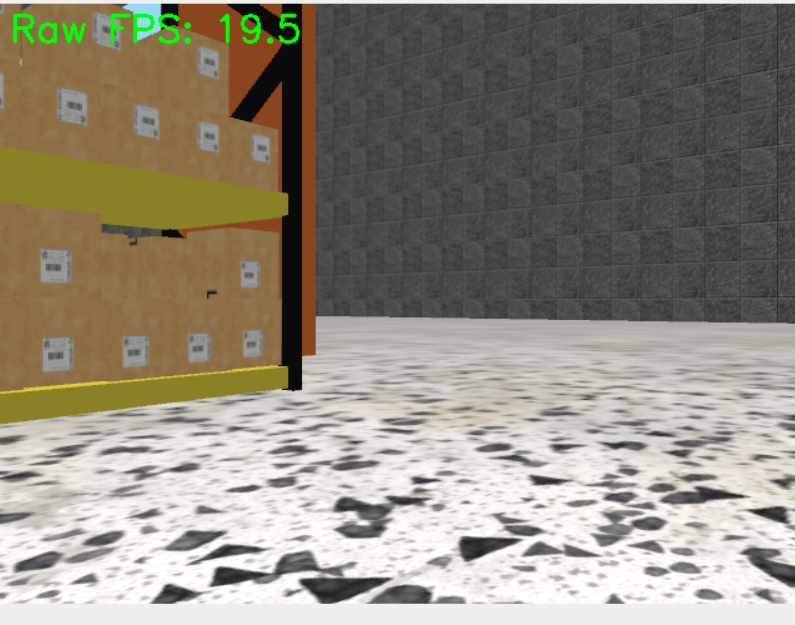barcode: (58, 87, 88, 127), (40, 248, 71, 284), (42, 337, 73, 371), (135, 103, 160, 140), (122, 335, 149, 368), (198, 46, 220, 80), (198, 121, 220, 153), (187, 333, 210, 362), (239, 259, 261, 289), (251, 133, 270, 164), (243, 329, 263, 358)
